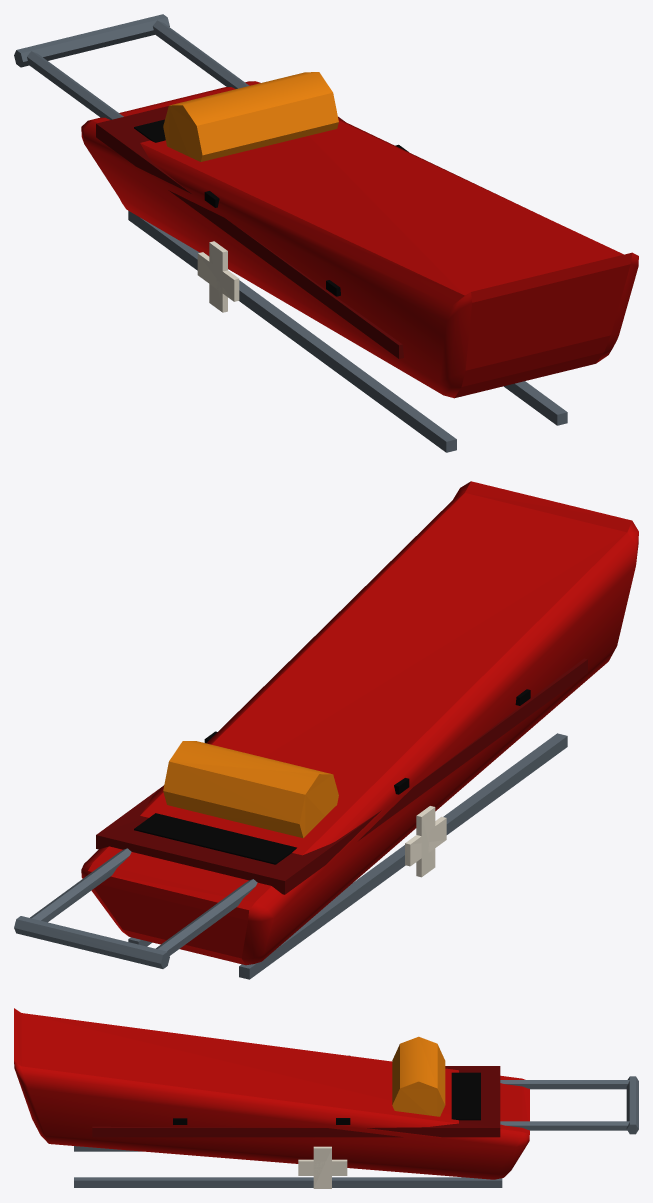
File: rs_akja.glb
3 views of the same model, one above another, from view 1: azimuth 30°, elevation 25°; view 2: azimuth 150°, elevation 25°; view 3: azimuth 270°, elevation 25° (orthographic). The views are drawn at different scales.
Visible parts, largest first — view 1: rs_akja.001; view 2: rs_akja.001; view 3: rs_akja.001.
Part boxes in pixels (x1,y1,x2,y2): rs_akja.001: (14,14,638,452); rs_akja.001: (14,481,638,979); rs_akja.001: (14,1008,638,1188).
Size of the model in its own units: 0.81 by 0.7228 by 3.06.
